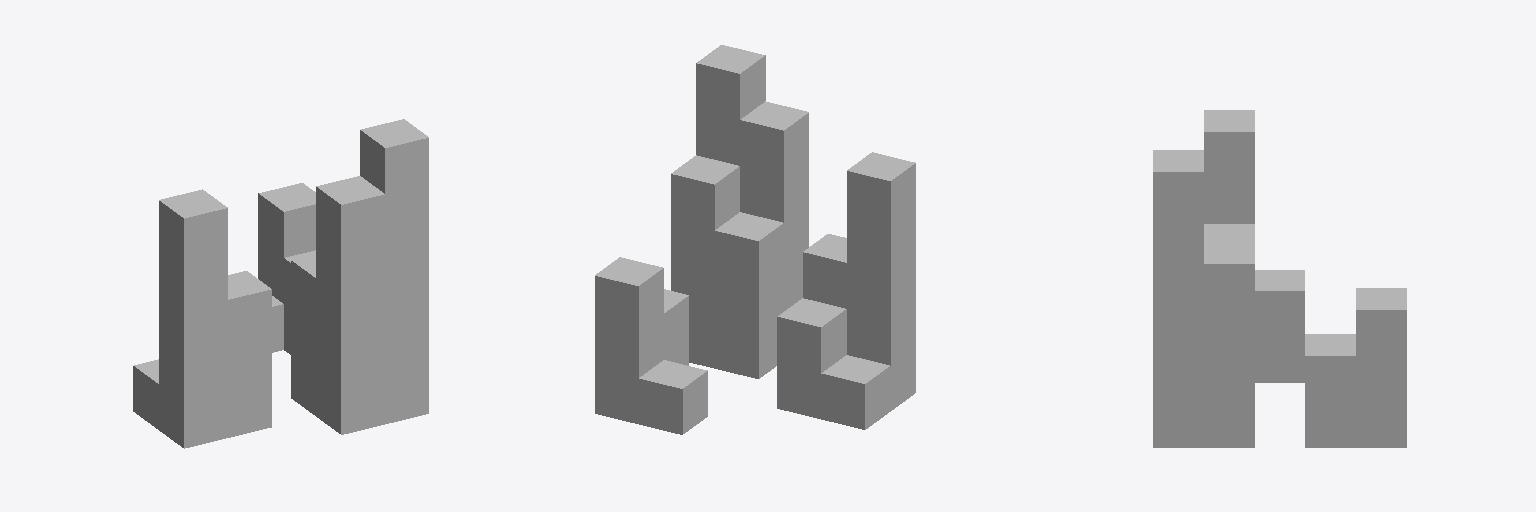
File: sandRocksPillar2-0.obj
3 views of the same model, side by side, from view 1: azimuth 30°, elevation 25°; view 2: azimuth 150°, elevation 25°; view 3: azimuth 270°, elevation 25° (orthographic).
Parts seen in each view (by area): view 1: object 1; view 2: object 1; view 3: object 1.
Part boxes in pixels (x1,y1,x2,y2): object 1: (133, 119, 428, 448); object 1: (595, 45, 915, 434); object 1: (1153, 110, 1406, 447).
Size of the model in its own units: 0.5 by 0.6 by 0.5.